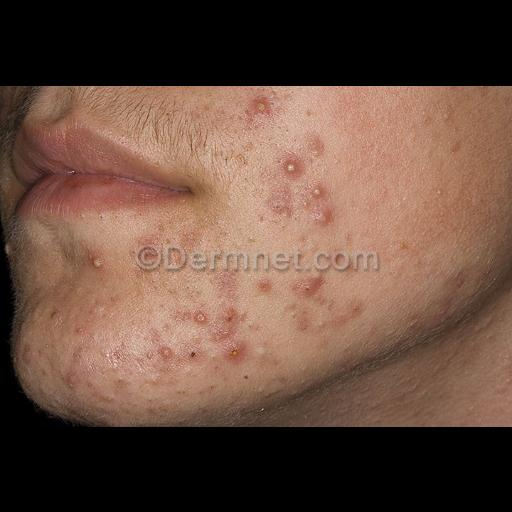Skin_Lesion: (212, 304, 250, 368), (242, 86, 280, 128), (308, 182, 338, 232), (259, 187, 299, 223), (73, 301, 109, 337), (294, 268, 328, 300), (219, 268, 243, 298), (341, 298, 363, 330), (84, 248, 110, 272), (282, 152, 304, 180), (1, 236, 21, 264), (226, 340, 246, 366), (306, 132, 326, 154), (257, 273, 275, 297), (191, 303, 209, 325), (158, 340, 174, 364), (298, 310, 312, 334), (448, 139, 466, 157), (64, 368, 80, 388), (311, 182, 329, 198), (226, 304, 240, 324), (474, 85, 496, 95), (48, 304, 60, 322), (398, 241, 410, 255), (73, 324, 85, 336)
